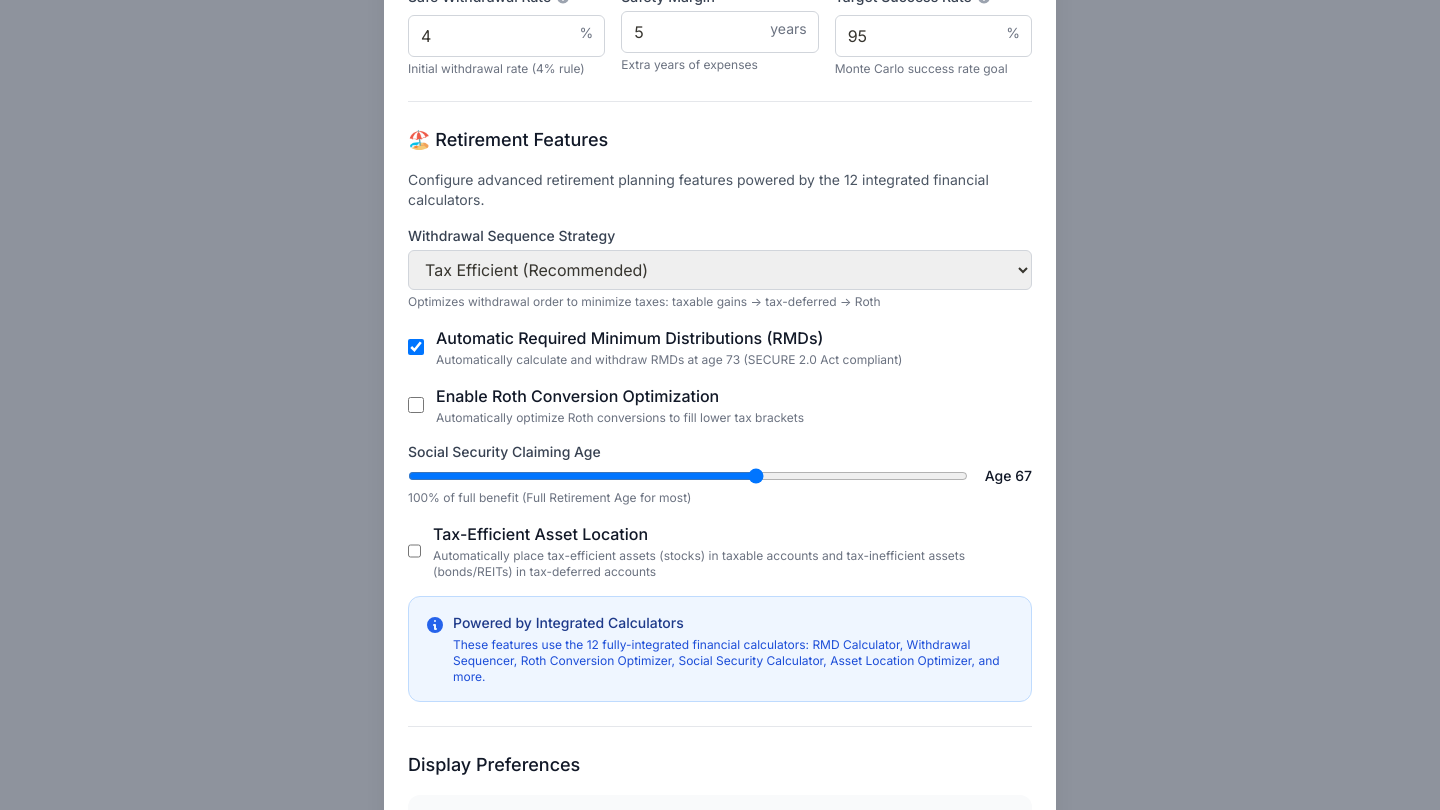
ApplicationSettingsModal - Retirement Features › Conditional Rendering › shows Roth conversion tax rate slider only when conversions are enabled
The width and height of the screenshot is (1440, 810).
(page scrolled)
Check: the field labelled "Maximum Tax Rate for Conversions" is not shown
// Enable Roth conversions
Click the checkbox labelled "Roth Conversion Optimization": (416, 405) [408,397,424,413]
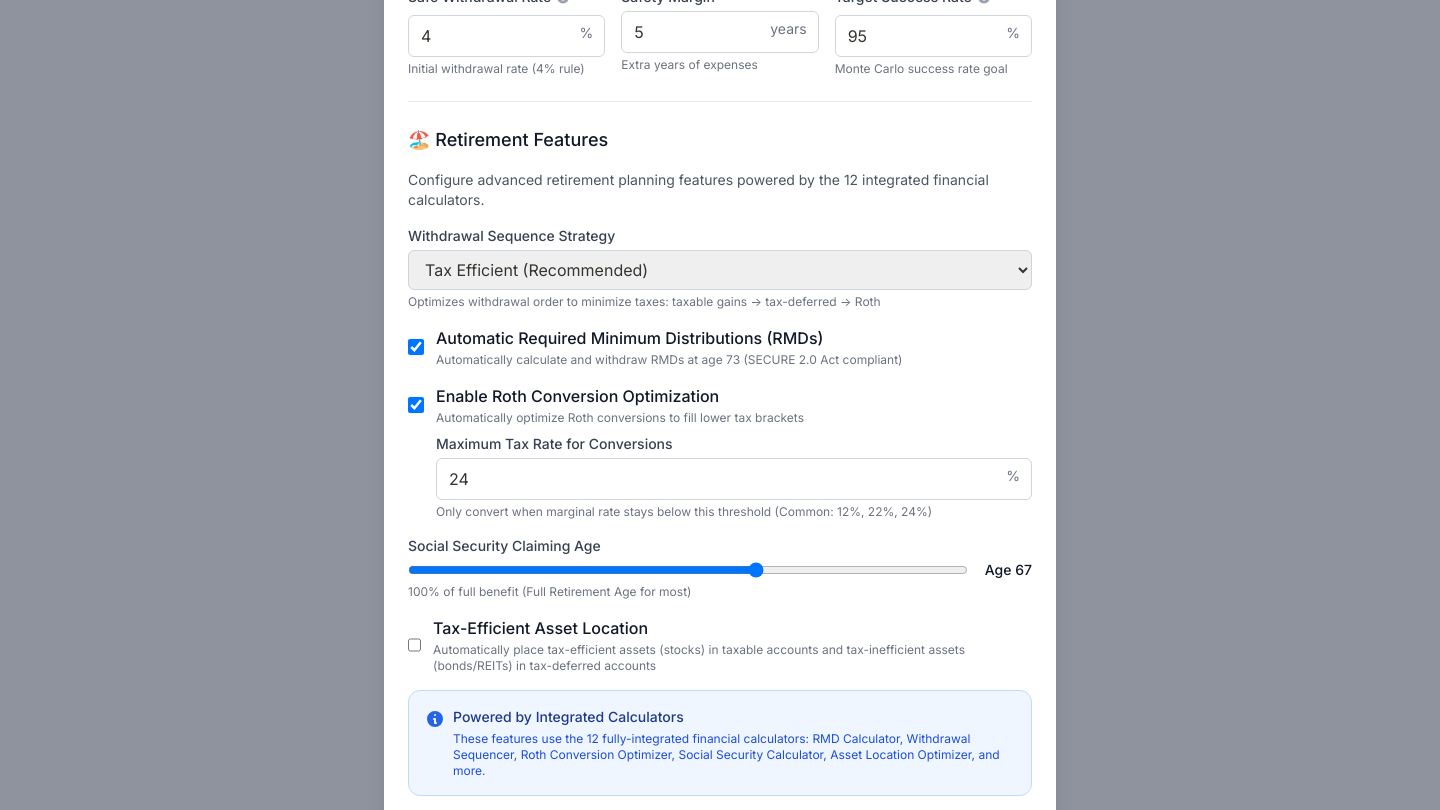
Check: the number field labelled "Maximum Tax Rate for Conversions" is shown, box [436,458,1032,500]
// Disable again
Click the checkbox labelled "Roth Conversion Optimization": (416, 405) [408,397,424,413]
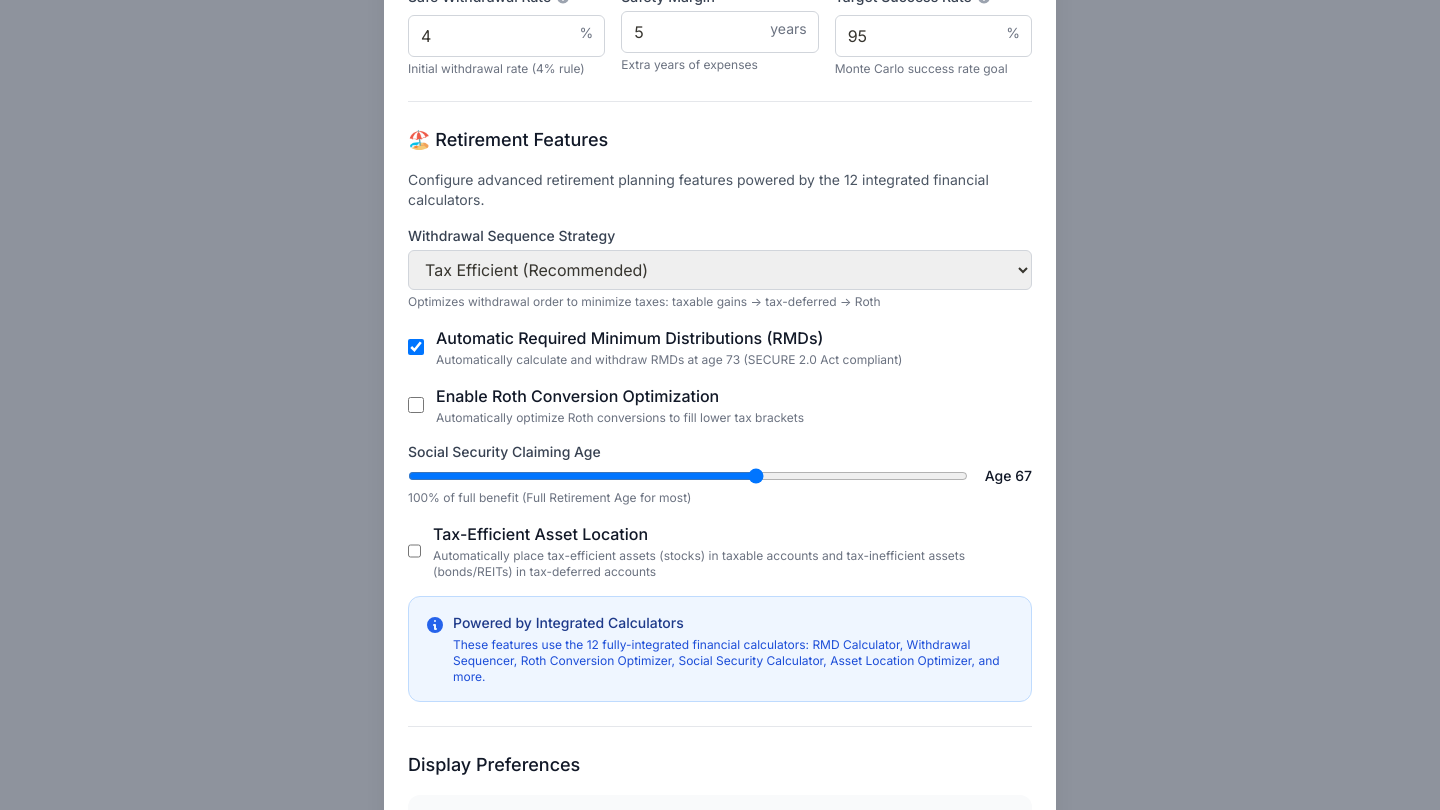
Check: the label labelled "Maximum Tax Rate for Conversions" is gone
